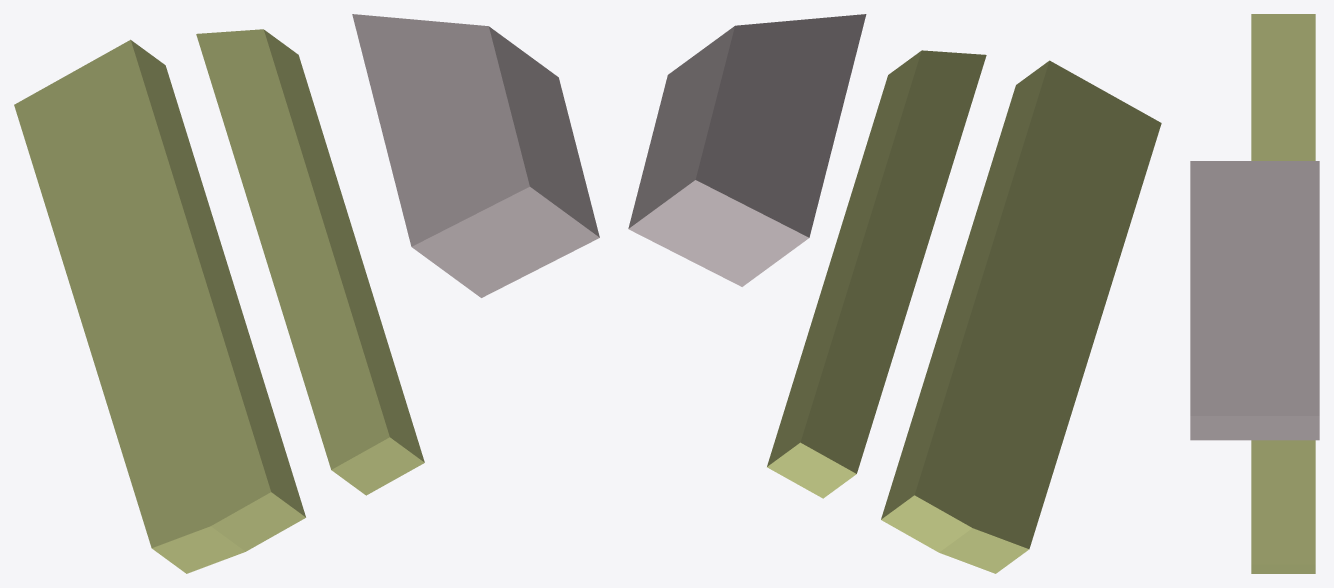
3 views of the same model, side by side, from view 1: azimuth 30°, elevation 25°; view 2: azimuth 150°, elevation 25°; view 3: azimuth 270°, elevation 25° (orthographic). The views are drawn at different scales.
Parts seen in each view (by area): view 1: 0_1_3_2_2_2_0_1; view 2: 0_1_3_2_2_2_0_1; view 3: 0_1_3_2_2_2_0_1.
Boxes of the visible parts, <box> form: 0_1_3_2_2_2_0_1: <box>14,14,599,573</box>; 0_1_3_2_2_2_0_1: <box>628,14,1161,573</box>; 0_1_3_2_2_2_0_1: <box>1190,14,1319,573</box>.
Bounding box in the file's own units: 51.25 × 48.58 × 12.
